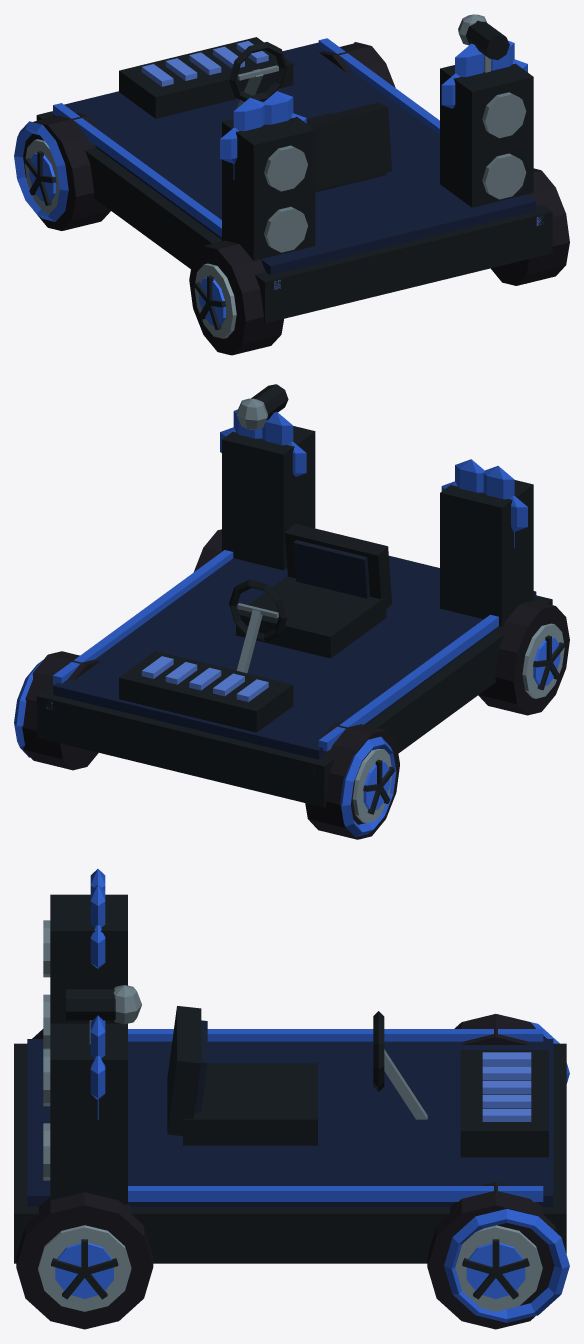
File: kart.glb
3 views of the same model, one above another, from view 1: azimuth 30°, elevation 25°; view 2: azimuth 150°, elevation 25°; view 3: azimuth 270°, elevation 25° (orthographic). The views are drawn at different scales.
Visible parts, largest first — view 1: identity-stage-stage-platform-and-pa-towers, identity-stage-driver-cockpit, wheel-rear-left, wheel-front-left, identity-stage-motif-flowers, wheel-rear-right, identity-stage-motif-neon, identity-stage-motif-microphone, wheel-front-right; view 2: identity-stage-stage-platform-and-pa-towers, identity-stage-driver-cockpit, wheel-rear-left, wheel-front-left, identity-stage-motif-flowers, wheel-front-right, identity-stage-motif-neon, identity-stage-motif-microphone; view 3: identity-stage-stage-platform-and-pa-towers, identity-stage-driver-cockpit, wheel-rear-right, wheel-front-right, identity-stage-motif-neon, identity-stage-motif-flowers, identity-stage-motif-microphone, wheel-front-left.
Boxes of the visible parts, bbox=[...] form: identity-stage-stage-platform-and-pa-towers: bbox=[36, 37, 552, 323]; identity-stage-driver-cockpit: bbox=[229, 42, 391, 192]; wheel-rear-left: bbox=[189, 240, 283, 355]; wheel-front-left: bbox=[23, 112, 110, 230]; identity-stage-motif-flowers: bbox=[220, 40, 527, 179]; wheel-rear-right: bbox=[491, 168, 569, 285]; identity-stage-motif-neon: bbox=[14, 42, 542, 289]; identity-stage-motif-microphone: bbox=[458, 14, 509, 72]; wheel-front-right: bbox=[319, 42, 395, 87]; identity-stage-stage-platform-and-pa-towers: bbox=[36, 426, 552, 807]; identity-stage-driver-cockpit: bbox=[229, 523, 391, 673]; wheel-rear-left: bbox=[478, 600, 569, 715]; wheel-front-left: bbox=[305, 721, 399, 839]; identity-stage-motif-flowers: bbox=[220, 409, 527, 548]; wheel-front-right: bbox=[22, 651, 100, 770]; identity-stage-motif-neon: bbox=[14, 660, 396, 837]; identity-stage-motif-microphone: bbox=[236, 384, 288, 429]; identity-stage-stage-platform-and-pa-towers: bbox=[14, 894, 566, 1263]; identity-stage-driver-cockpit: bbox=[167, 1006, 427, 1145]; wheel-rear-right: bbox=[16, 1192, 153, 1329]; wheel-front-right: bbox=[427, 1182, 557, 1329]; identity-stage-motif-neon: bbox=[444, 1016, 569, 1322]; identity-stage-motif-flowers: bbox=[90, 869, 105, 1119]; identity-stage-motif-microphone: bbox=[66, 985, 141, 1044]; wheel-front-left: bbox=[454, 1014, 546, 1044].
Bounding box in the file's own units: 2.16 × 1.57 × 2.51.
